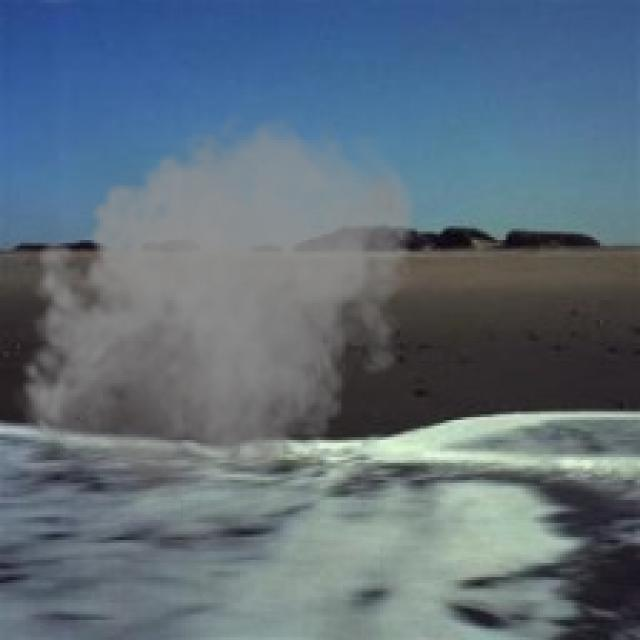Smoke: (8, 106, 423, 526)
